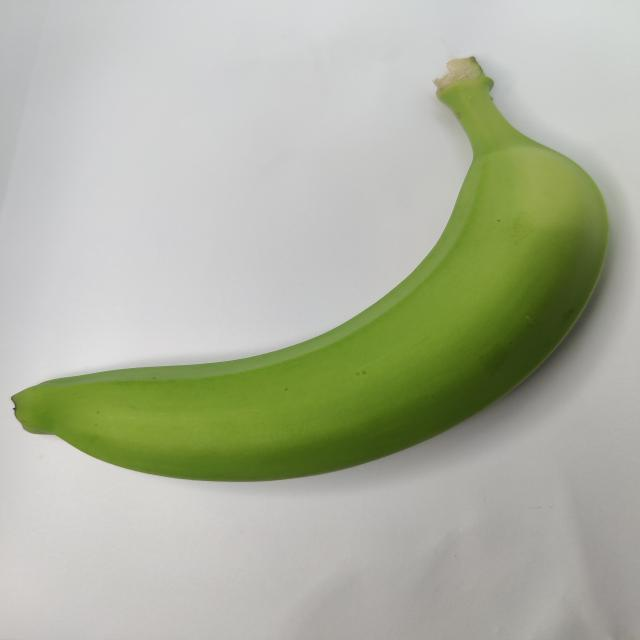raw: (7, 50, 626, 486)
